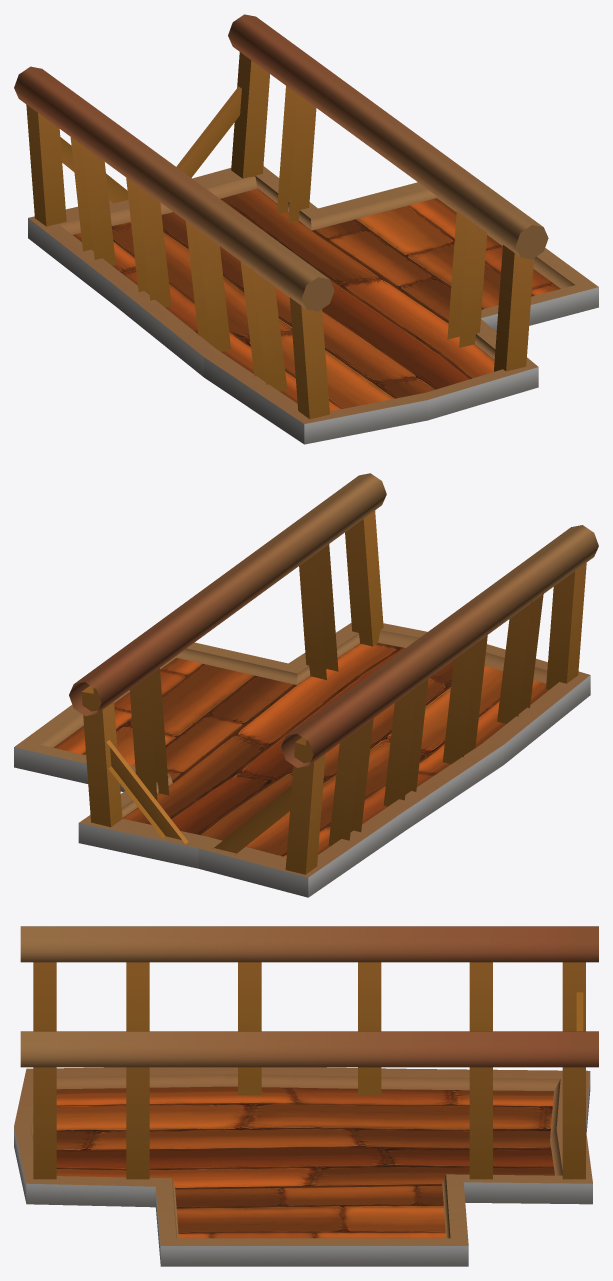
Rendered from VikingHouse_03_M.fbx.
3 views of the same model, one above another, from view 1: azimuth 30°, elevation 25°; view 2: azimuth 150°, elevation 25°; view 3: azimuth 270°, elevation 25° (orthographic).
Parts seen in each view (by area): view 1: VikingHouse_03_M; view 2: VikingHouse_03_M; view 3: VikingHouse_03_M.
Part boxes in pixels (bbox=[...]): VikingHouse_03_M: bbox=[14, 14, 598, 444]; VikingHouse_03_M: bbox=[14, 473, 598, 897]; VikingHouse_03_M: bbox=[14, 926, 598, 1266].
Size of the model in its own units: 229 by 99.44 by 314.
